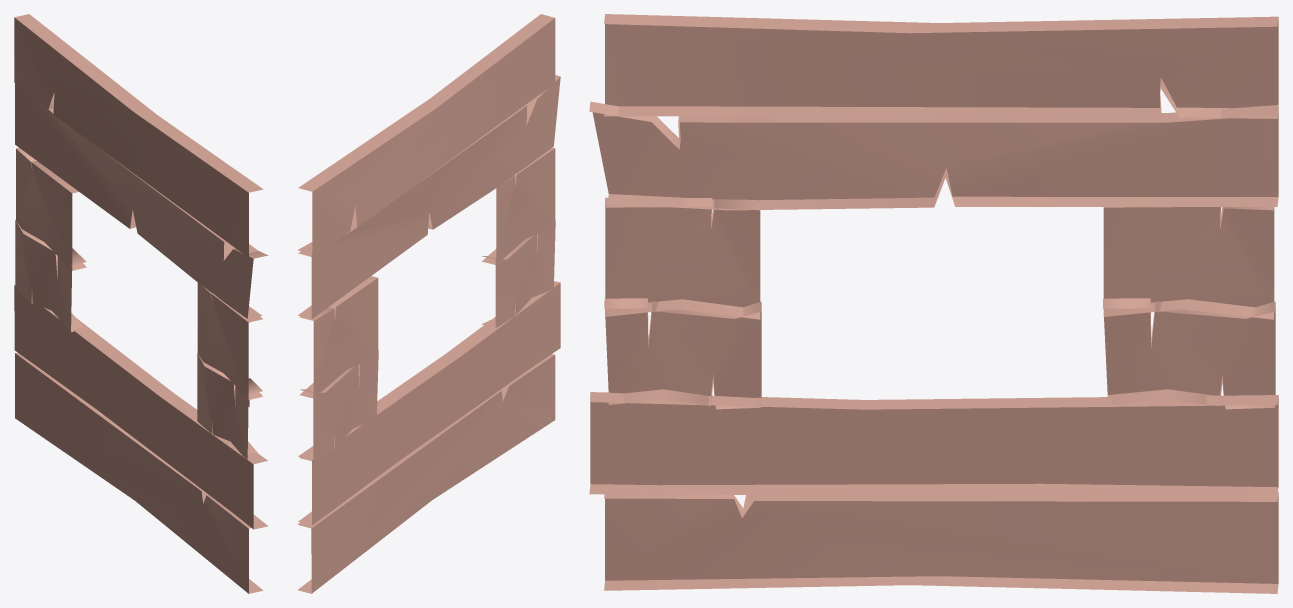
File: Building_037.glb
The picture shows the model from 3 angles, left to right: view 1: azimuth 30°, elevation 25°; view 2: azimuth 150°, elevation 25°; view 3: azimuth 270°, elevation 25°; orthographic projection. The views are drawn at different scales.
Visible parts, largest first — view 1: Building_037; view 2: Building_037; view 3: Building_037.
Part boxes in pixels (x1=…): Building_037: x1=14, y1=14, x2=268, y2=593; Building_037: x1=297, y1=14, x2=560, y2=593; Building_037: x1=589, y1=14, x2=1278, y2=593.
Size of the model in its own units: 0.2137 by 4.06 by 4.48.
Materials: 1 (1 with a texture image).
